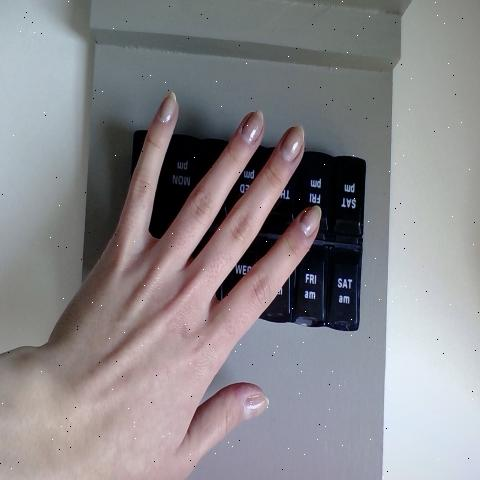FRI-am: (296, 249, 322, 328)
Hands: (2, 97, 323, 444)
SAT-am: (326, 252, 358, 332)
SAT-pm: (333, 161, 362, 243)
